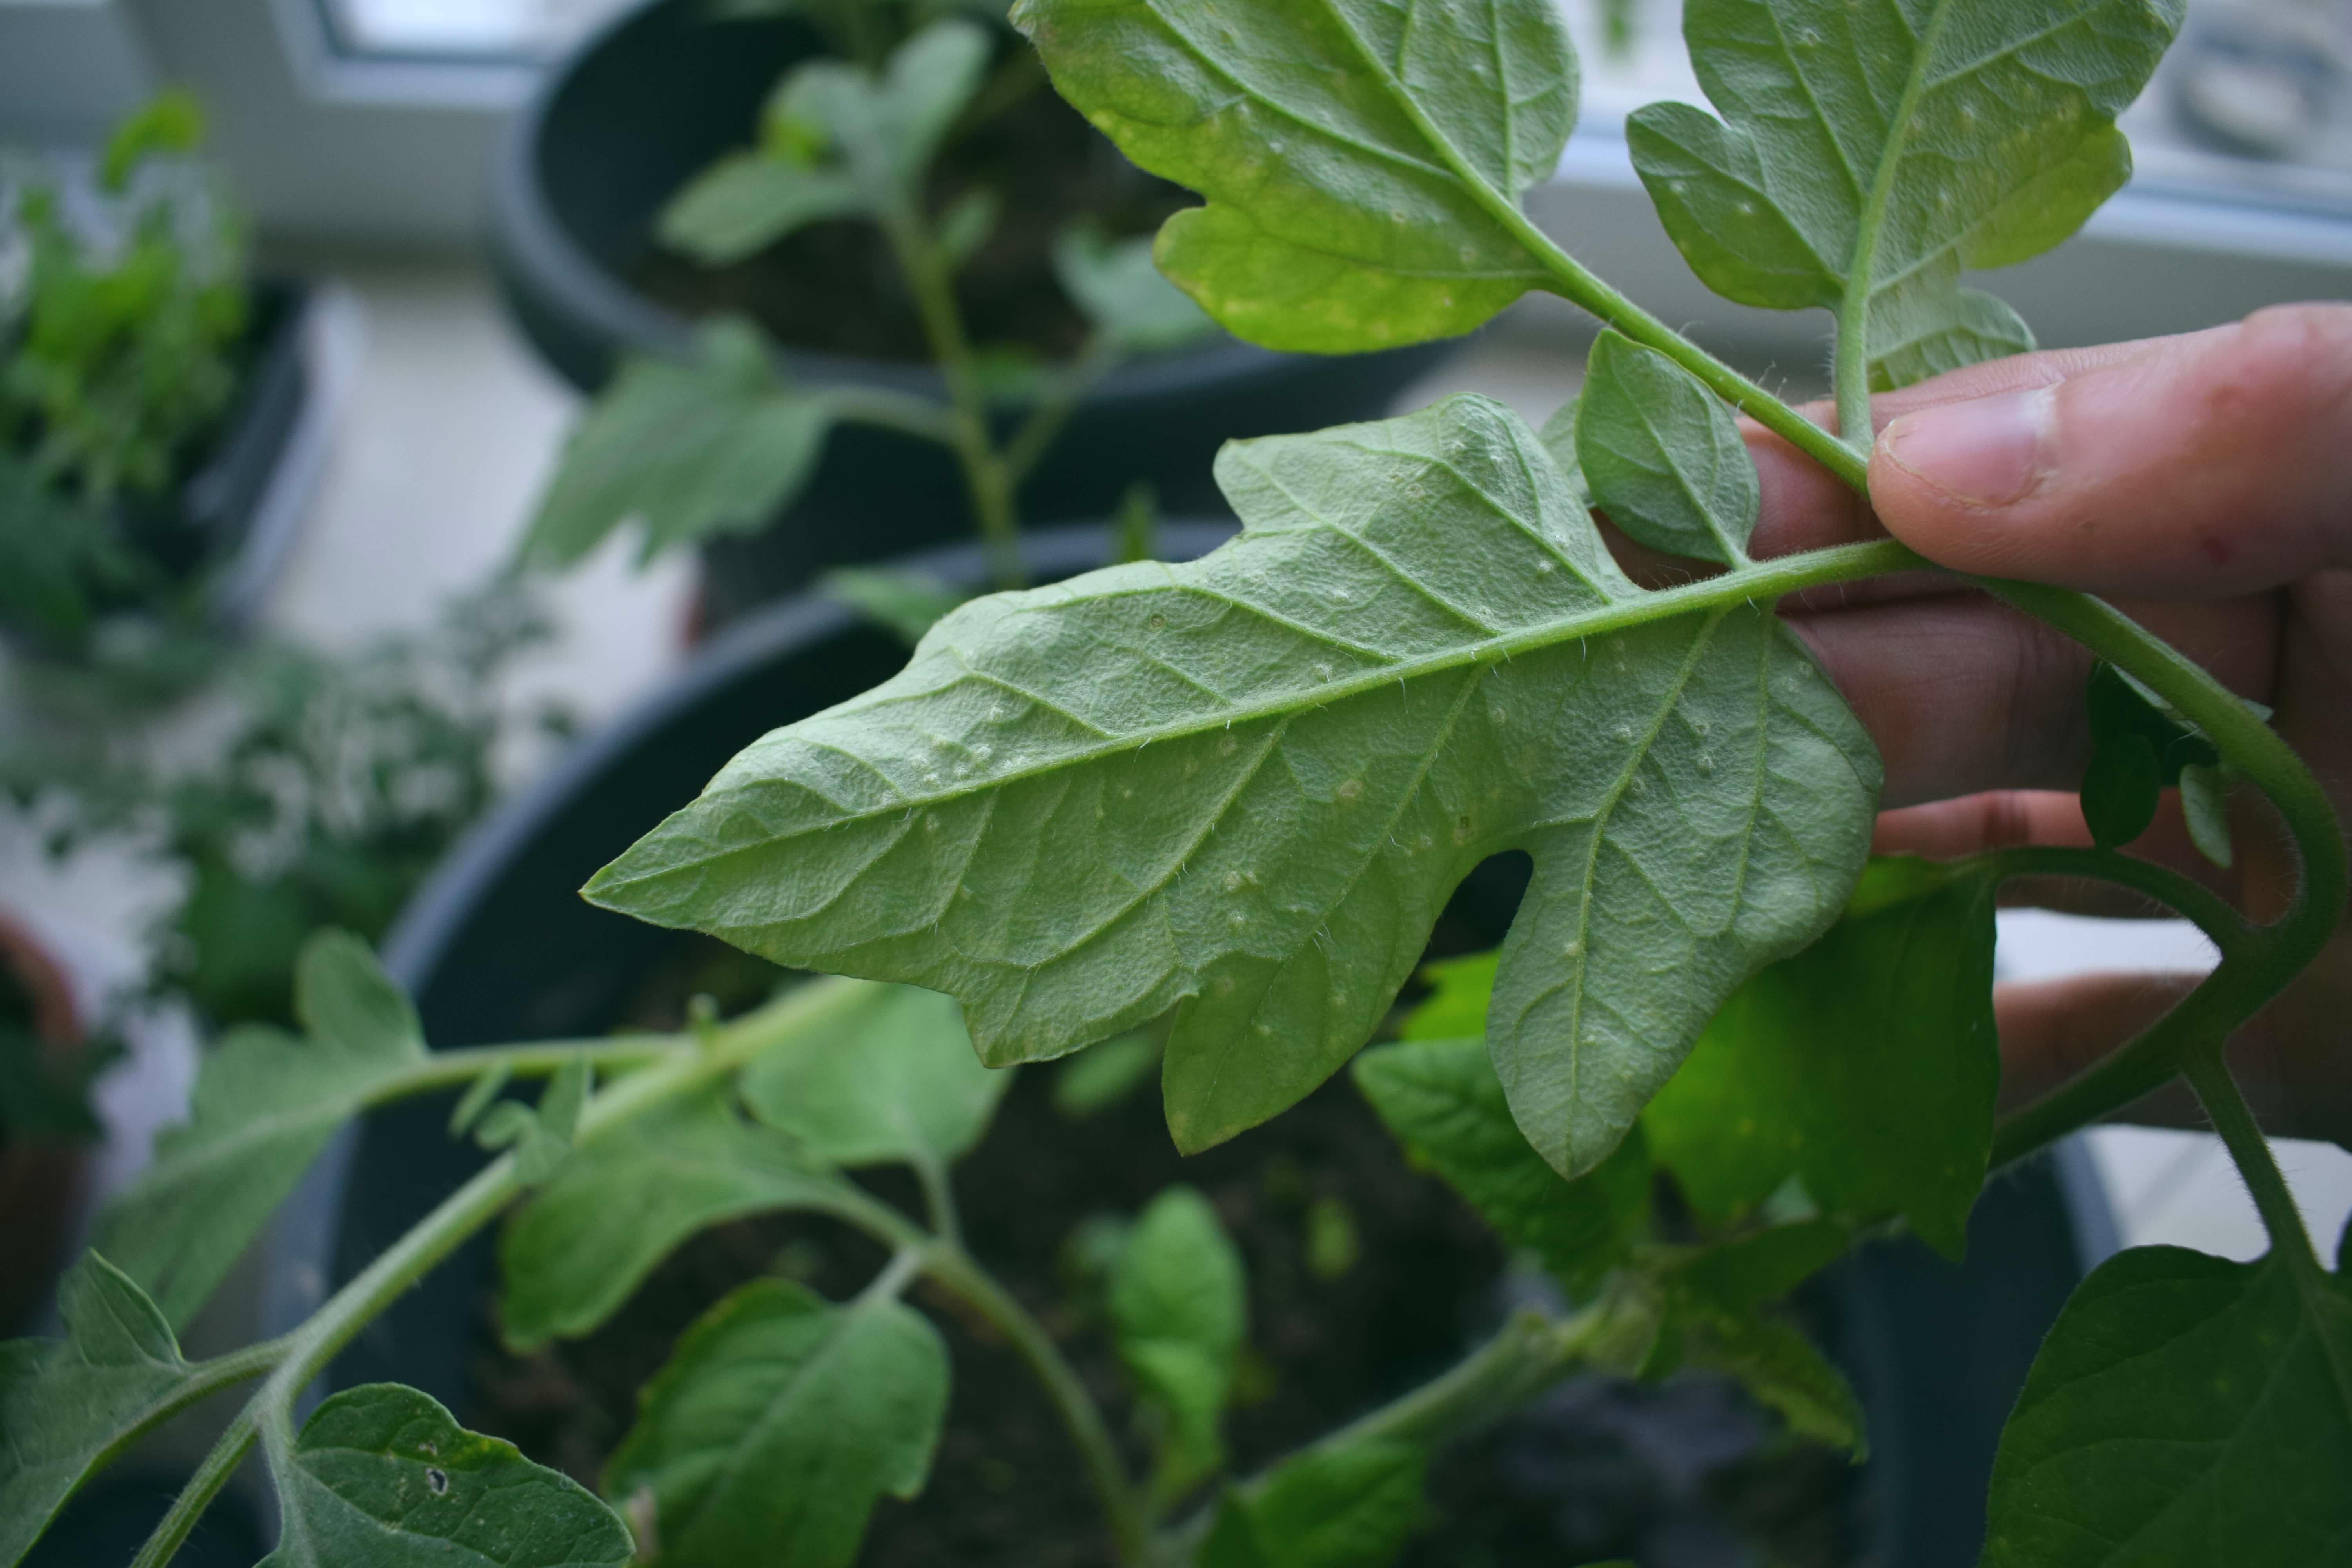Tomato mold leaf: (567, 402, 1845, 1179), (978, 0, 1578, 366), (1608, 0, 2205, 273), (583, 1270, 984, 1568)
